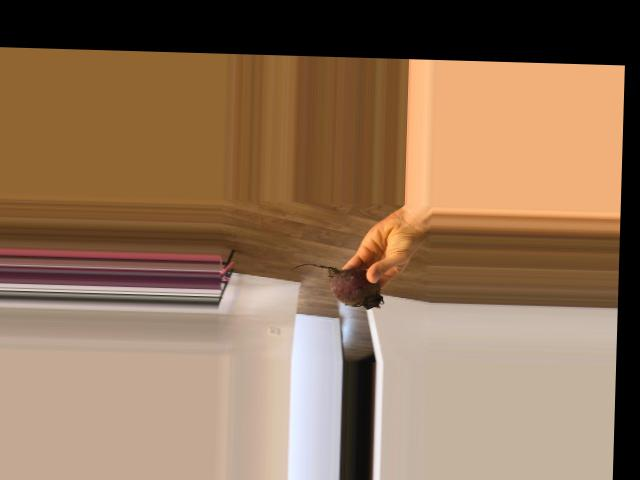beet: (289, 263, 383, 309)
